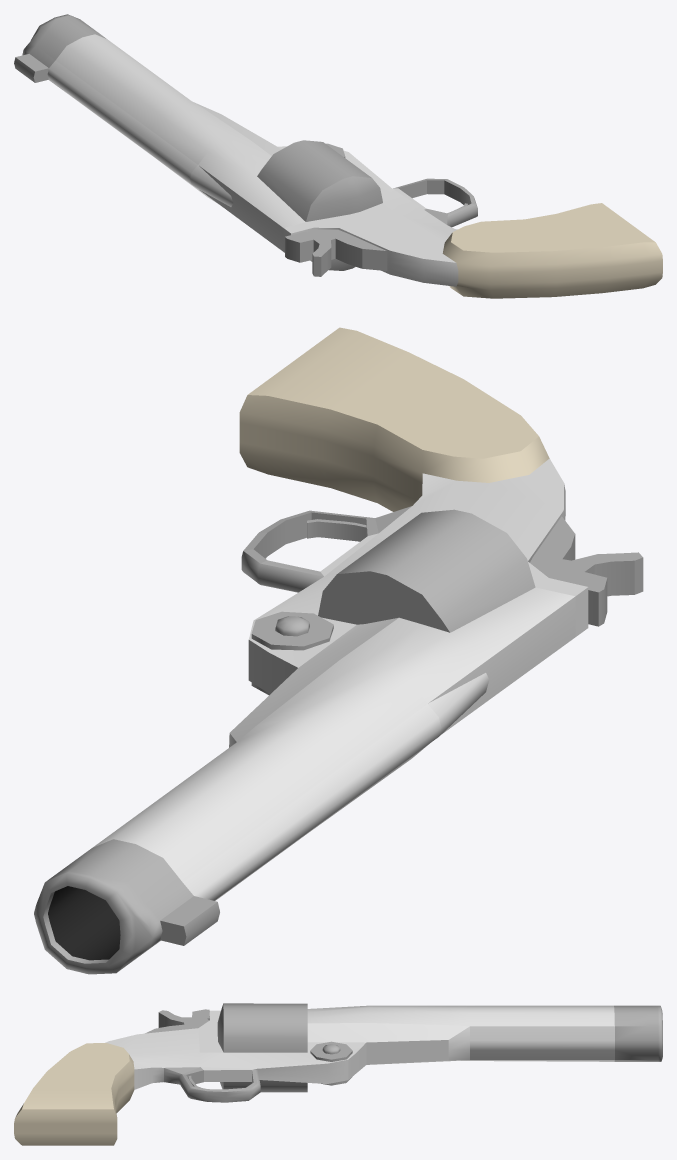
The model's file is Revolver.fbx.
The picture shows the model from 3 angles, top to bottom: view 1: azimuth 30°, elevation 25°; view 2: azimuth 150°, elevation 25°; view 3: azimuth 270°, elevation 25°; orthographic projection. The views are drawn at different scales.
Parts seen in each view (by area): view 1: polySurface7; view 2: polySurface7; view 3: polySurface7.
Part boxes in pixels (x1,y1,x2,y2): polySurface7: [14, 14, 662, 298]; polySurface7: [34, 327, 643, 974]; polySurface7: [14, 1003, 662, 1145].
Size of the model in its own units: 18.18 by 5.75 by 42.86.
